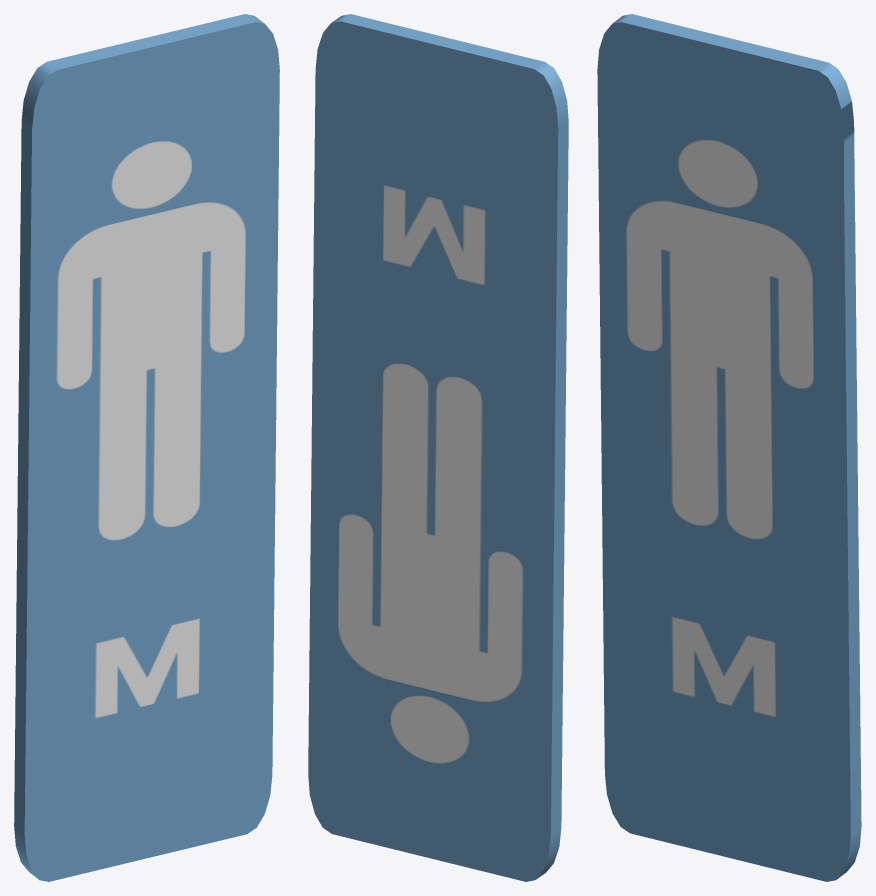
Rendered from male-washroom.fbx.
The picture shows the model from 3 angles, left to right: view 1: azimuth 30°, elevation 25°; view 2: azimuth 150°, elevation 25°; view 3: azimuth 330°, elevation 25°; orthographic projection.
Parts seen in each view (by area): view 1: anothersignage:pasted__pCube1; view 2: anothersignage:pasted__pCube1; view 3: anothersignage:pasted__pCube1.
Part boxes in pixels (left/top/right/bottom): anothersignage:pasted__pCube1: left=14, top=14, right=279, bottom=881; anothersignage:pasted__pCube1: left=308, top=14, right=568, bottom=881; anothersignage:pasted__pCube1: left=597, top=14, right=861, bottom=881.
Bounding box in the file's own units: 13.43 × 42.53 × 1.87.
